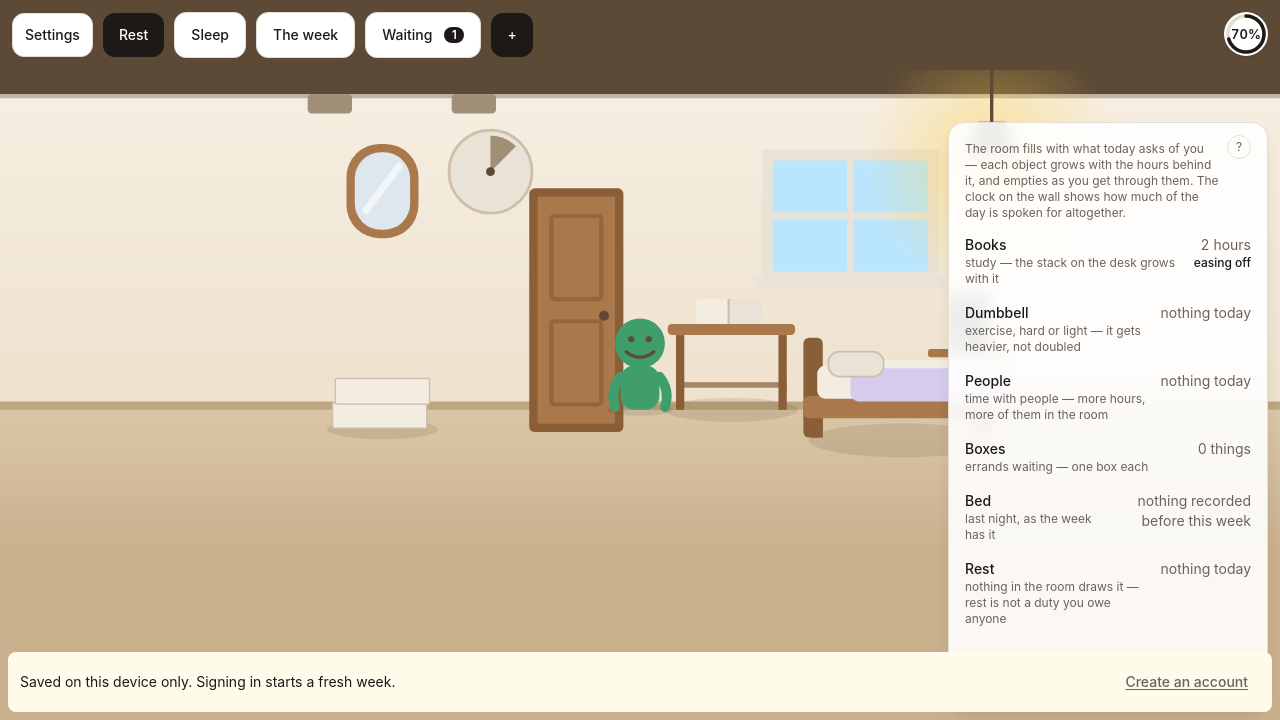
RoomShell with a block to confirm › quotes the measured bias back to the student from their own block log
Click the button with test id "open-week".
click(306, 35)  # box left=256, top=12, right=355, bottom=58
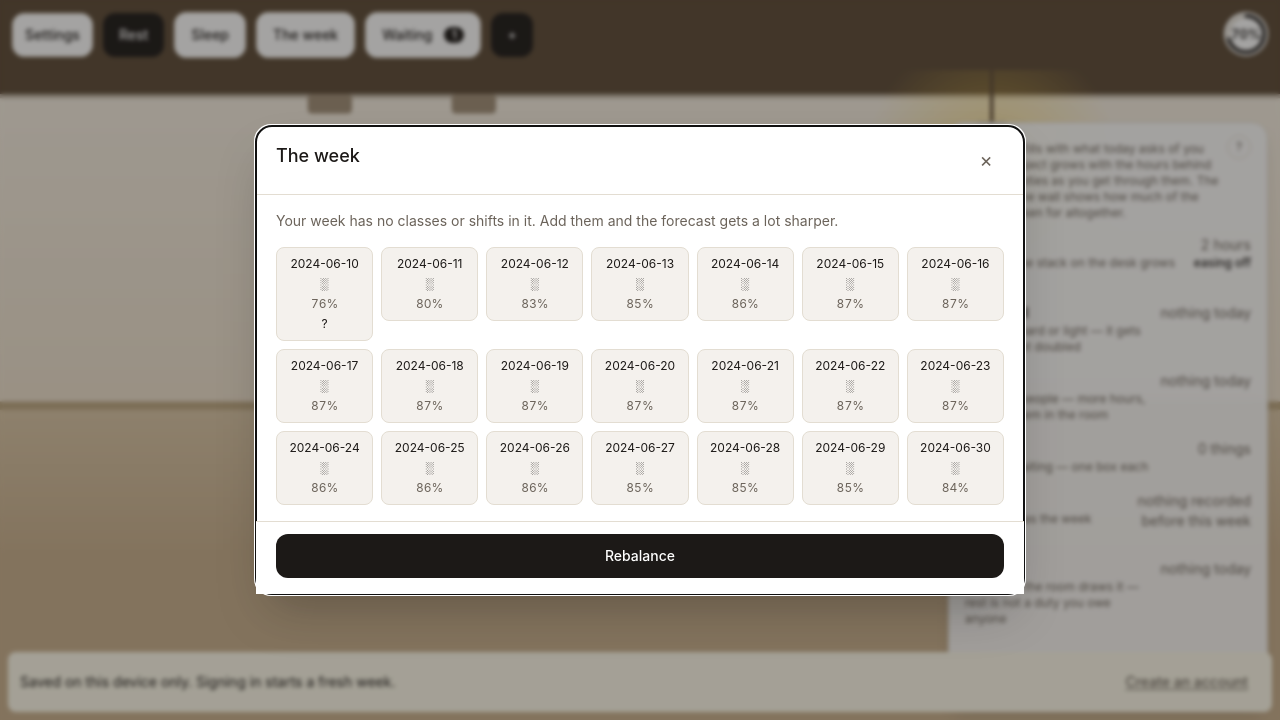
Click the button with test id "day-3".
click(640, 284)  # box left=591, top=247, right=688, bottom=321
(page scrolled)
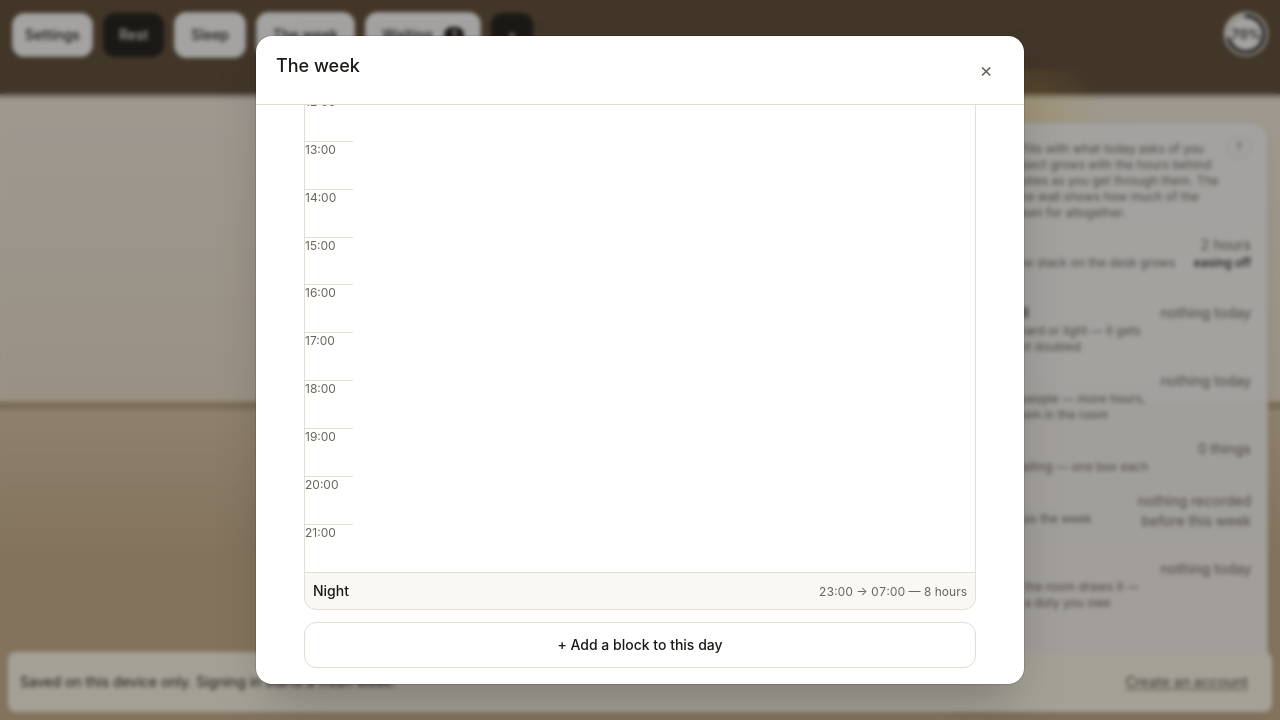
Click the button with test id "add-block".
click(640, 645)  # box left=304, top=622, right=976, bottom=668
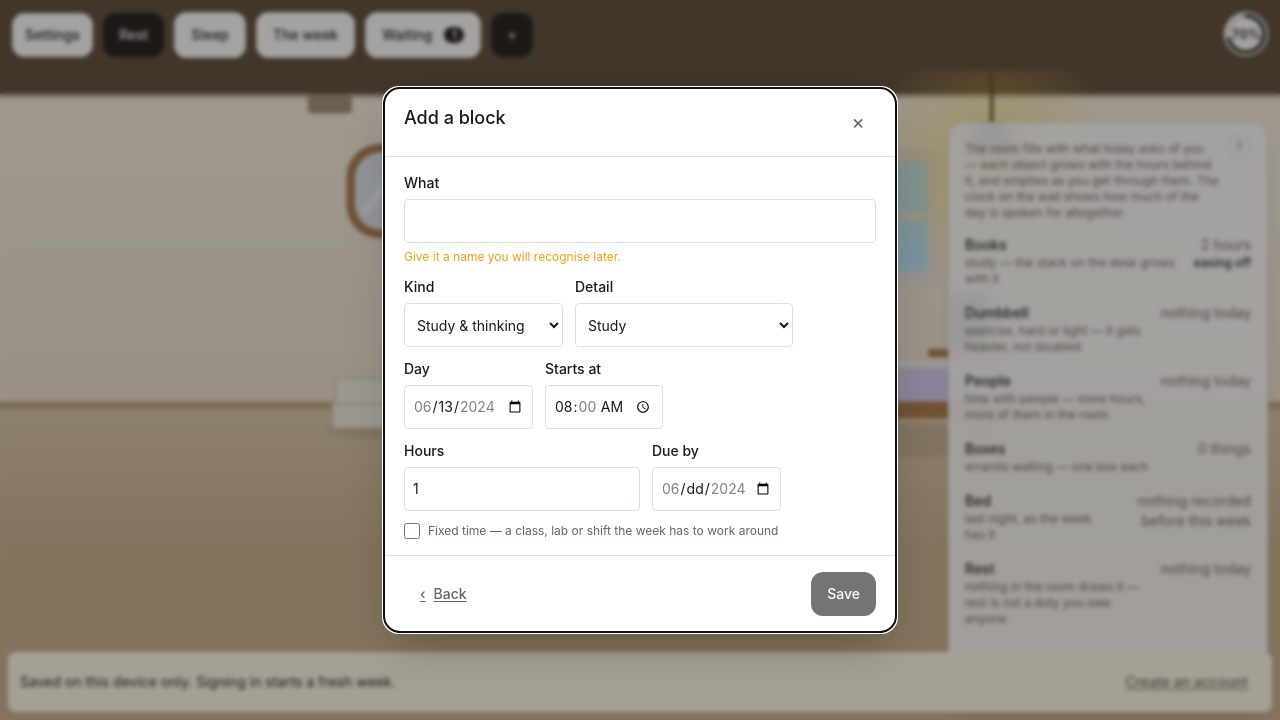
Type "Essay" into the field labelled "What".
click(640, 221); type("Essay")  # box left=404, top=199, right=876, bottom=243
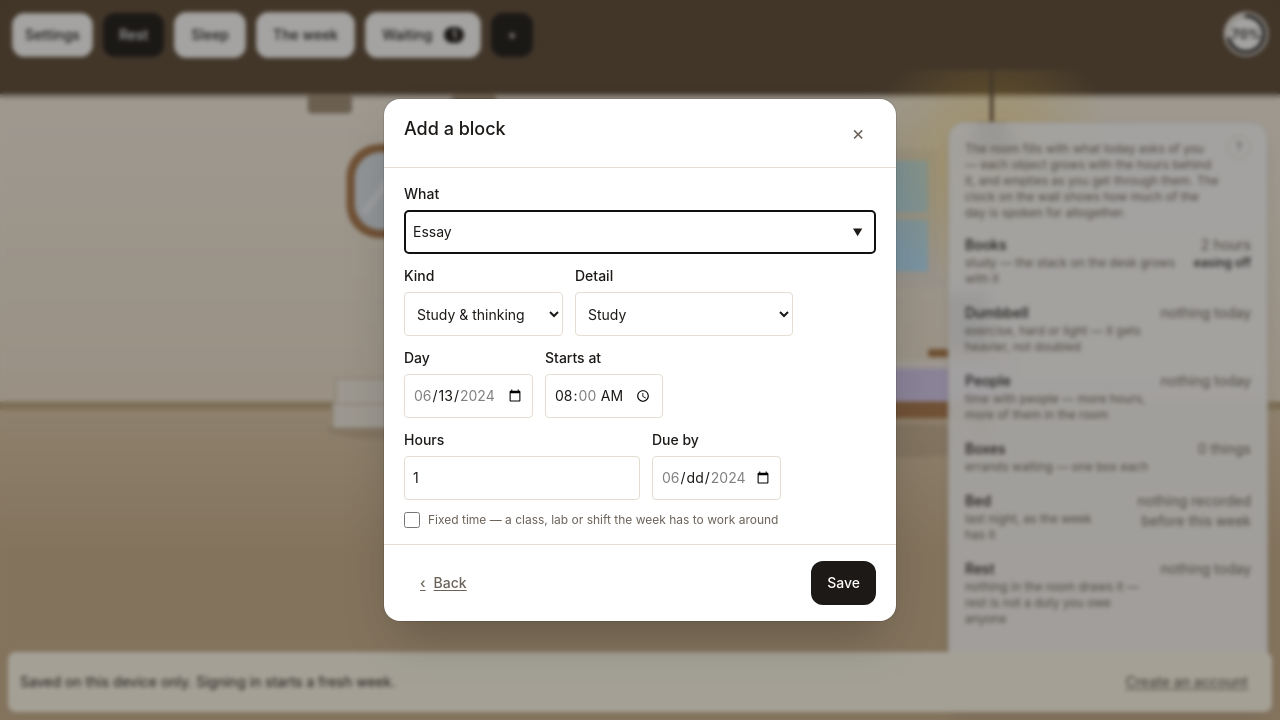
Click the button with test id "save-block".
click(844, 583)  # box left=811, top=561, right=876, bottom=605
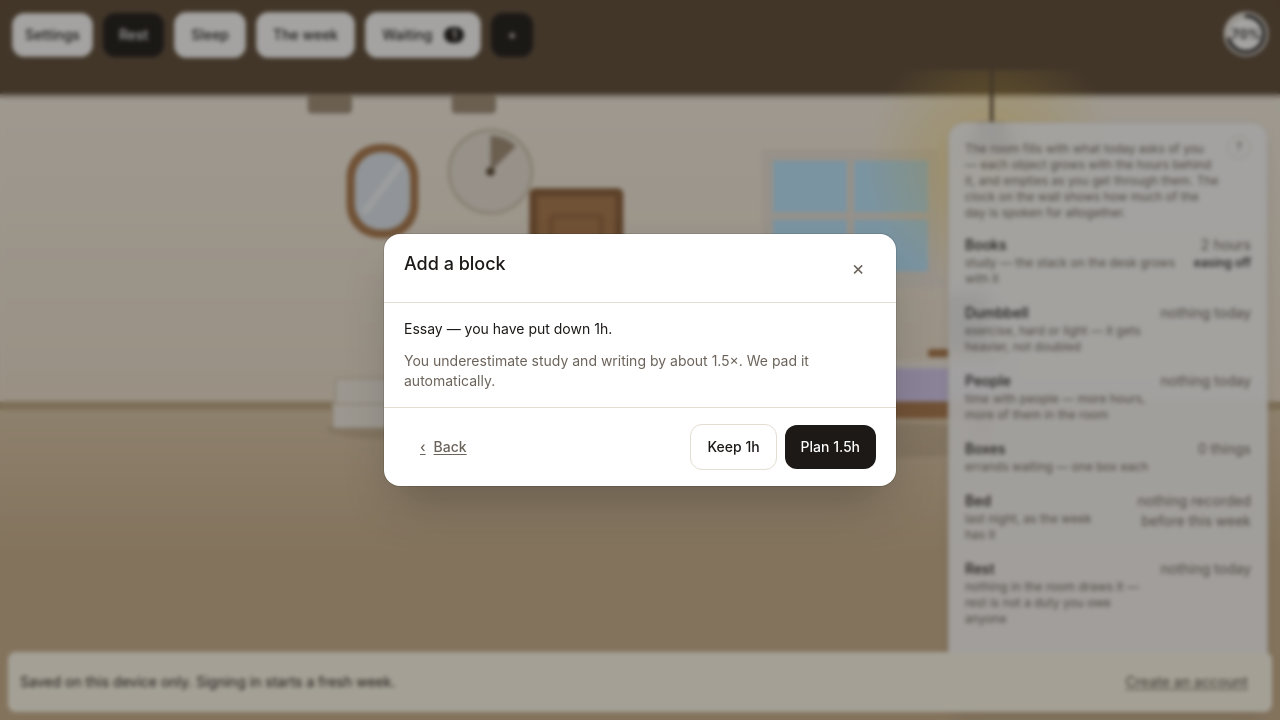
Now the text with test id "bias-line" reads "You underestimate study and writing by about 1.5×. We pad it automatically.", box left=404, top=352, right=809, bottom=389
